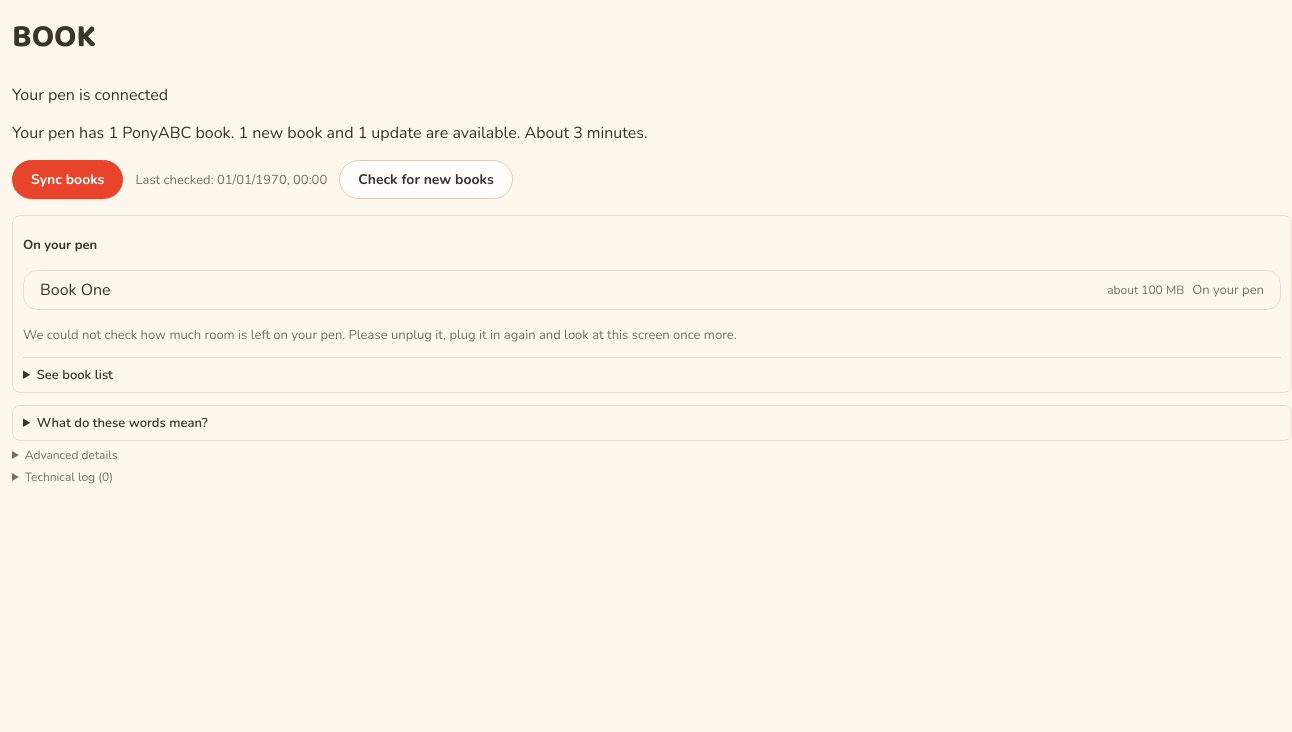
Test: BookLibraryScreen — syncing › stops cleanly when the pen fills up, keeping what finished
Expected: the text "Last checked: 01/01/1970, 00:00" is shown, [135,171,327,189]
Click the button "Sync books" at [68, 180], box [12,160,123,199]
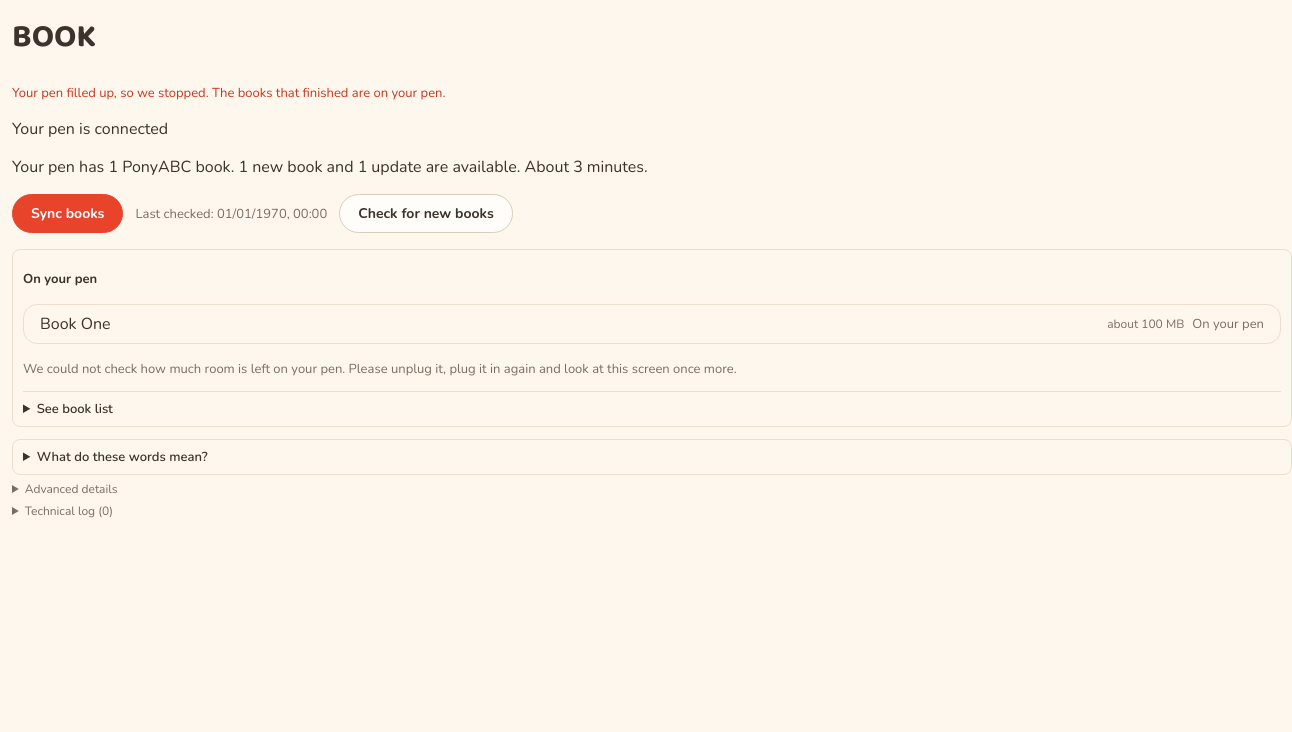
Expected: the text "Your pen filled up, so we stopped. The books that finished are on your pen." is shown, [12,84,445,102]
